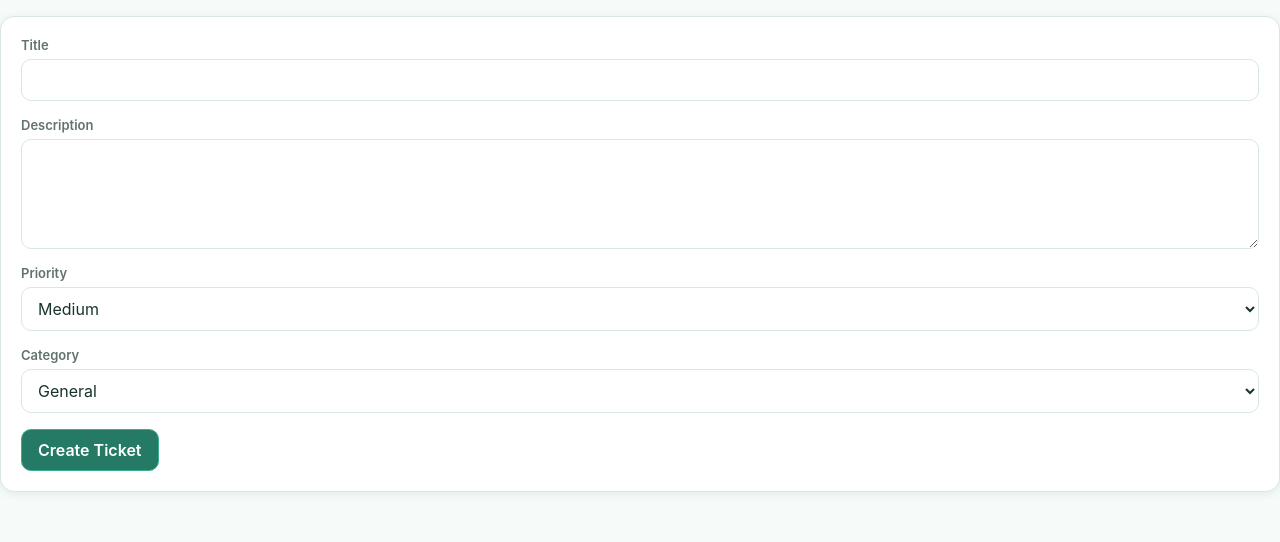
Scenario: TicketForm — create mode › marks the missing Title field as invalid and associates the error
The image size is (1280, 542).
Type "Some description" into the text box labelled "Description". click: (640, 194)
box: [21,139,1259,249]
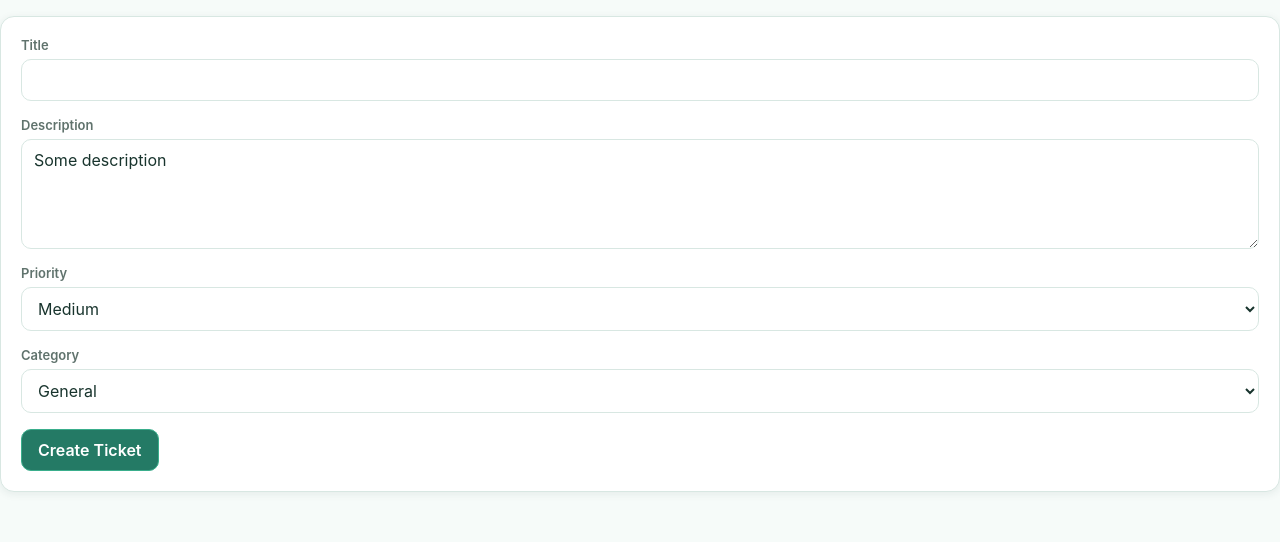
Click the button "Create Ticket". click: (90, 450)
box: [21,429,158,471]
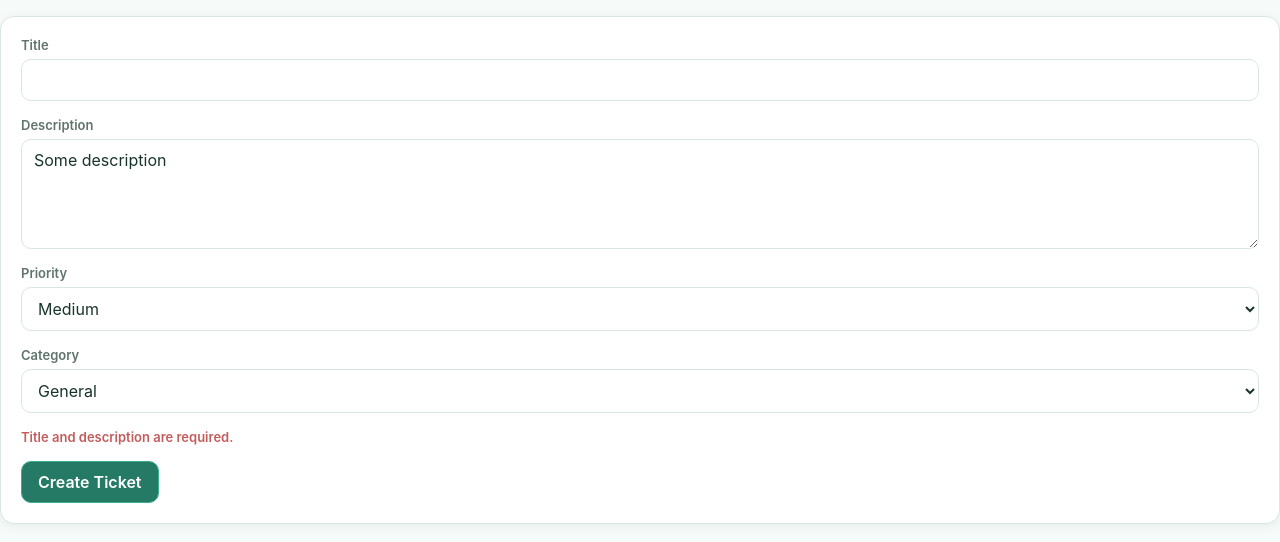
Result: the message reads "Title and description are required." at [21,429,233,445]
